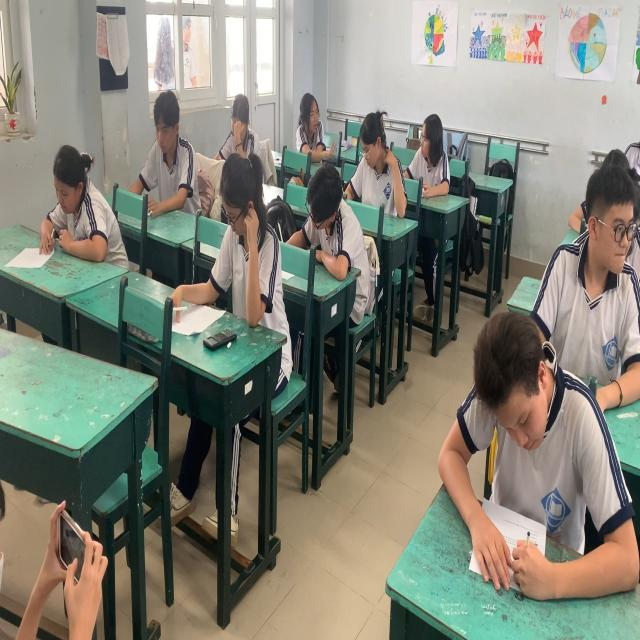cheating: (555, 164, 640, 384), (292, 88, 339, 167), (414, 104, 452, 198)
not_cheating: (440, 326, 631, 612), (214, 149, 288, 350), (33, 146, 129, 260), (137, 102, 197, 219), (352, 109, 407, 232), (302, 160, 358, 264), (216, 95, 255, 160)
